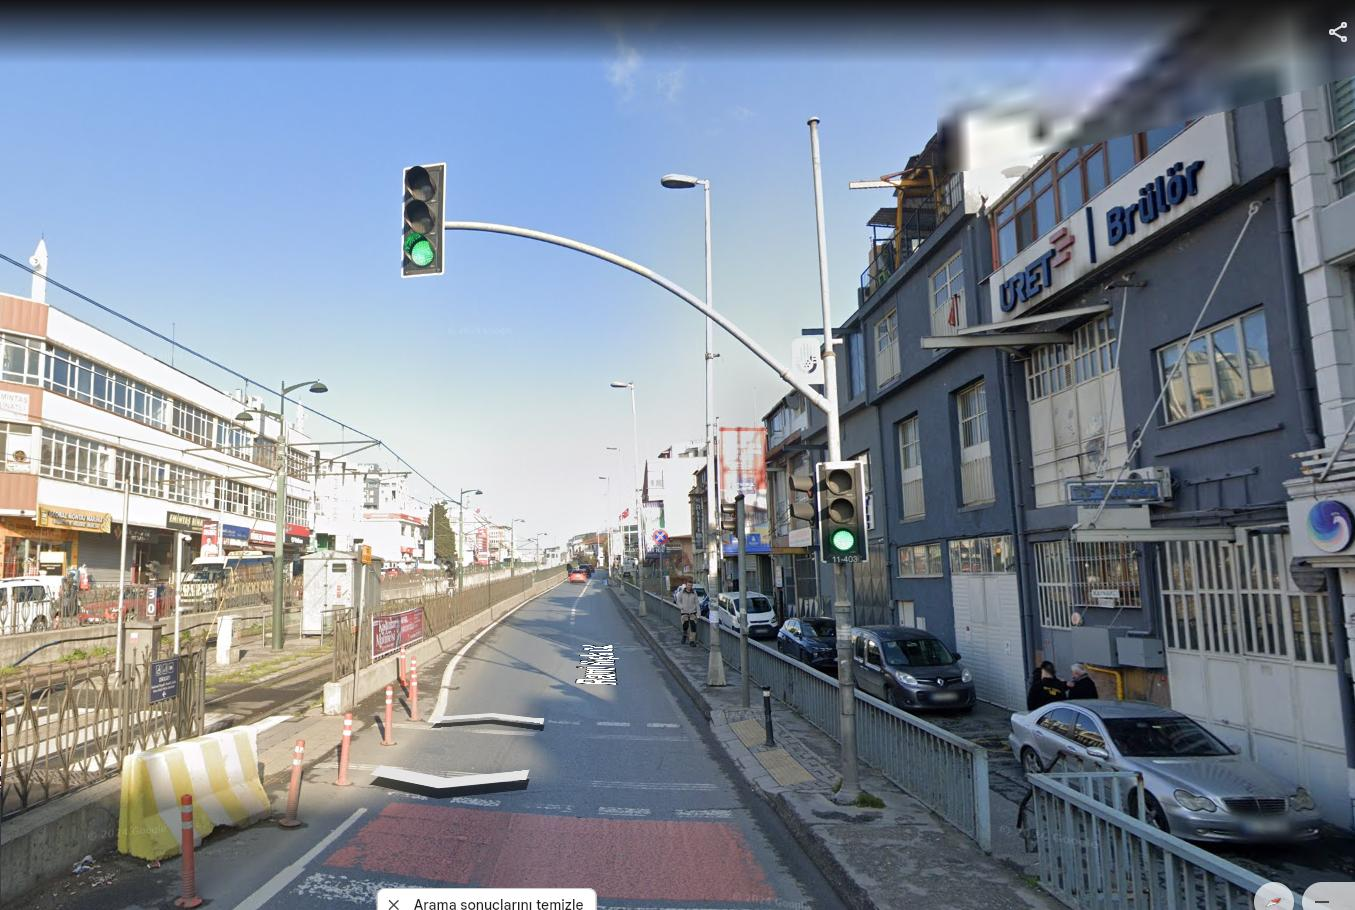greenlight: (818, 459, 869, 559), (405, 165, 443, 271)
